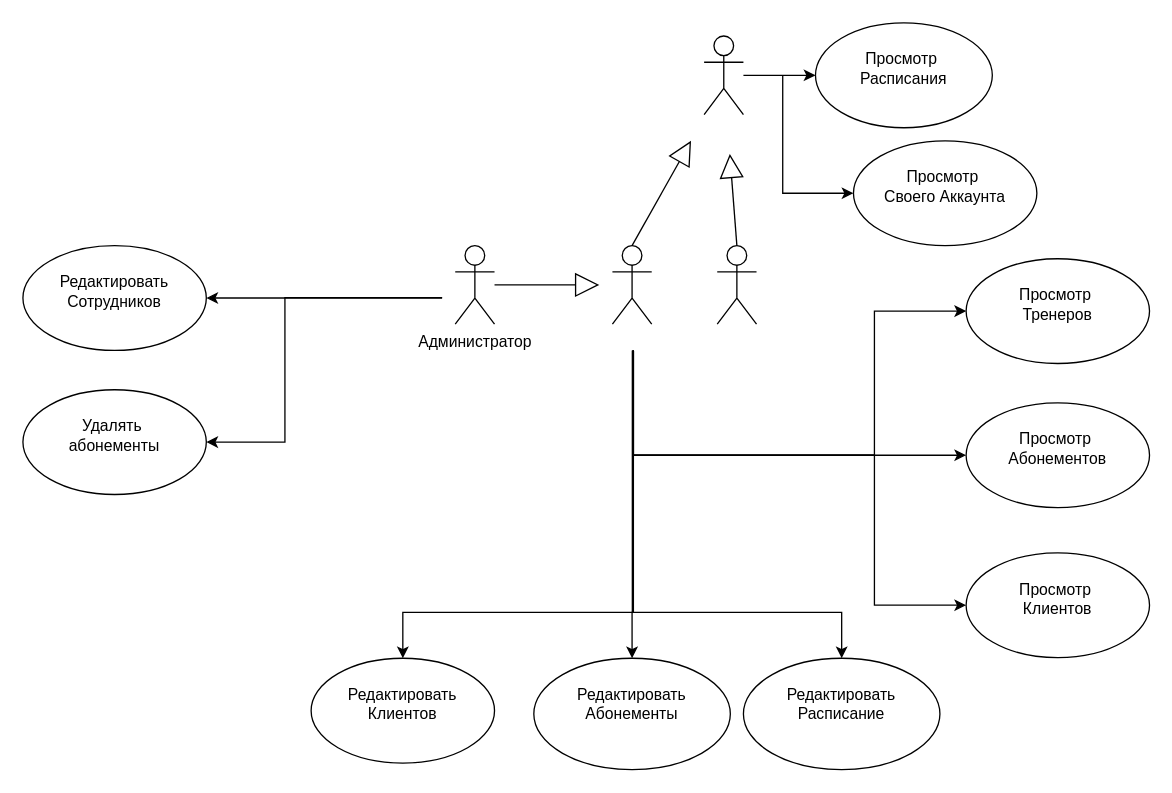
Image size: 1172x793. Some labels were removed from this diagram. Here are the shapes that lost their labels. From the top down, the centre of each, then its label:
At point (723, 75): "Клиент".
At point (631, 284): "Менеджер".
At point (736, 284): "Тренер".
